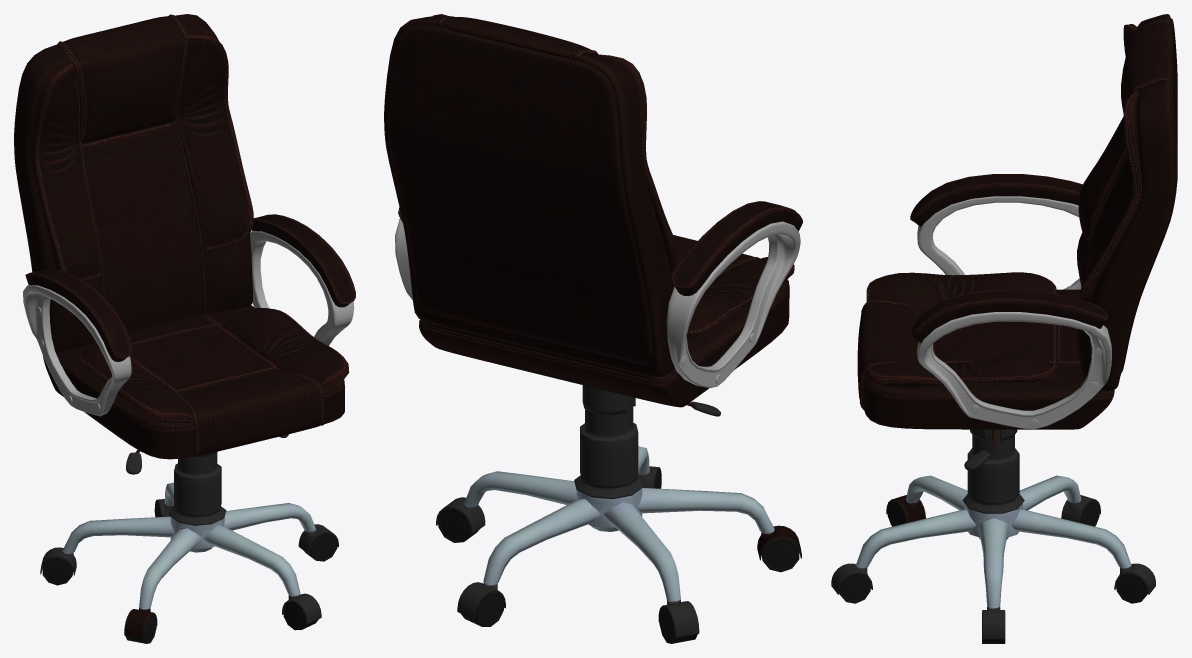
Rendered from rollingchair.fbx.
The picture shows the model from 3 angles, left to right: view 1: azimuth 30°, elevation 25°; view 2: azimuth 150°, elevation 25°; view 3: azimuth 270°, elevation 25°; orthographic projection. The views are drawn at different scales.
Parts seen in each view (by area): view 1: Executive office chair; view 2: Executive office chair; view 3: Executive office chair.
Part boxes in pixels (x1,y1,x2,y2): Executive office chair: (14, 14, 355, 643); Executive office chair: (384, 14, 802, 643); Executive office chair: (831, 14, 1177, 643).
Size of the model in its own units: 67.91 by 125 by 73.7.
1 material, 1 textured.
